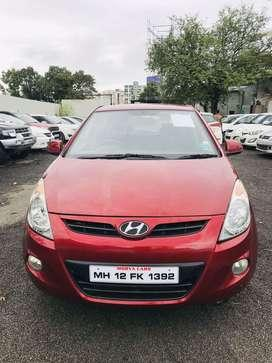MH12FK1392: (88, 263, 177, 283)
